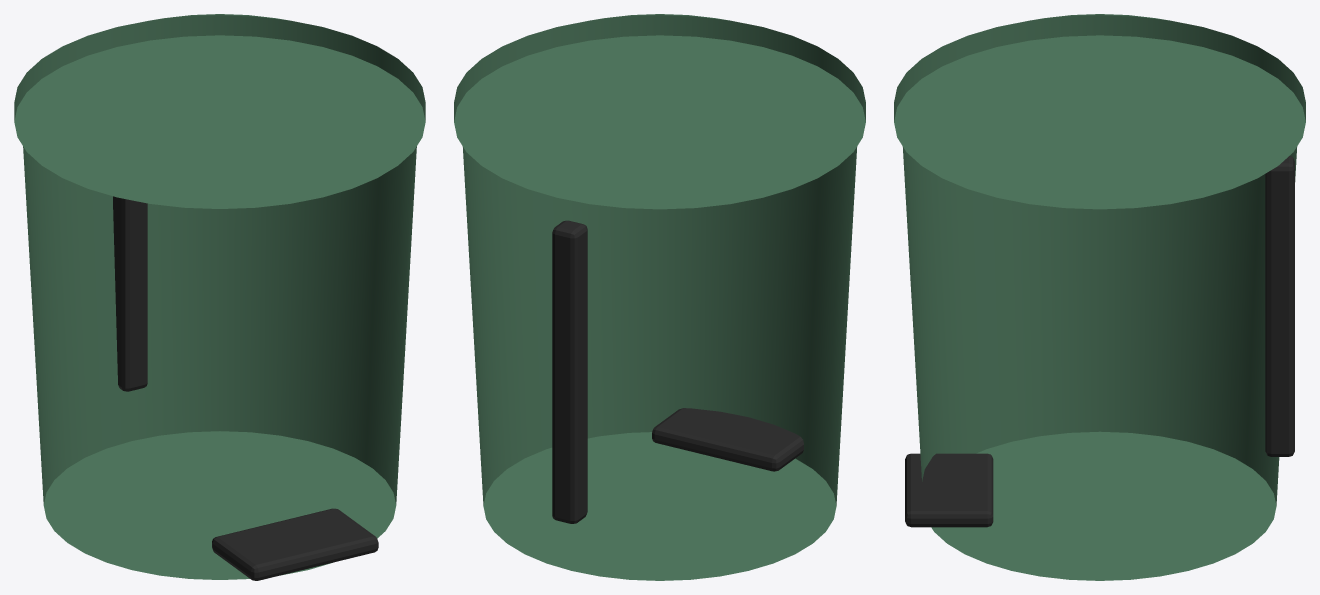
Rendered from ThungRac.glb.
The picture shows the model from 3 angles, left to right: view 1: azimuth 30°, elevation 25°; view 2: azimuth 150°, elevation 25°; view 3: azimuth 270°, elevation 25°; orthographic projection.
Parts seen in each view (by area): view 1: geometry_0; view 2: geometry_0; view 3: geometry_0.
Boxes of the visible parts, box(x1,y1,x2,y2) form: geometry_0: box(14, 14, 425, 580); geometry_0: box(454, 14, 865, 580); geometry_0: box(894, 14, 1305, 580).
Bounding box in the file's own units: 0.28 × 0.323 × 0.28.
